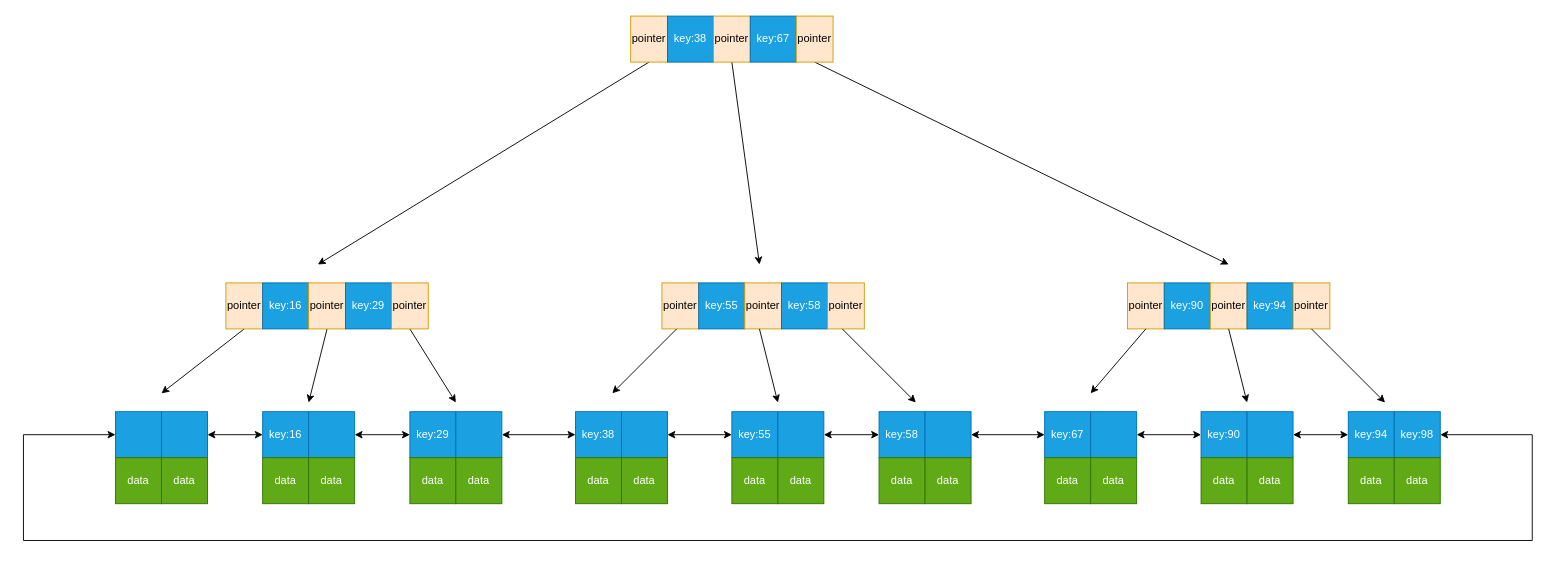
Image size: 1557x565. Some labels were removed from this diagram. The centre of each missing label's shape, as x and y in pixels:
"key:12" goes at point 184,434.
"key:18" goes at point 331,434.
"key:34" goes at point 478,434.
"key:45" goes at point 644,434.
"key:56" goes at point 800,434.
"key:6" goes at point 138,434.
"key:62" goes at point 947,434.
"key:87" goes at point 1113,434.
"key:92" goes at point 1269,434.
